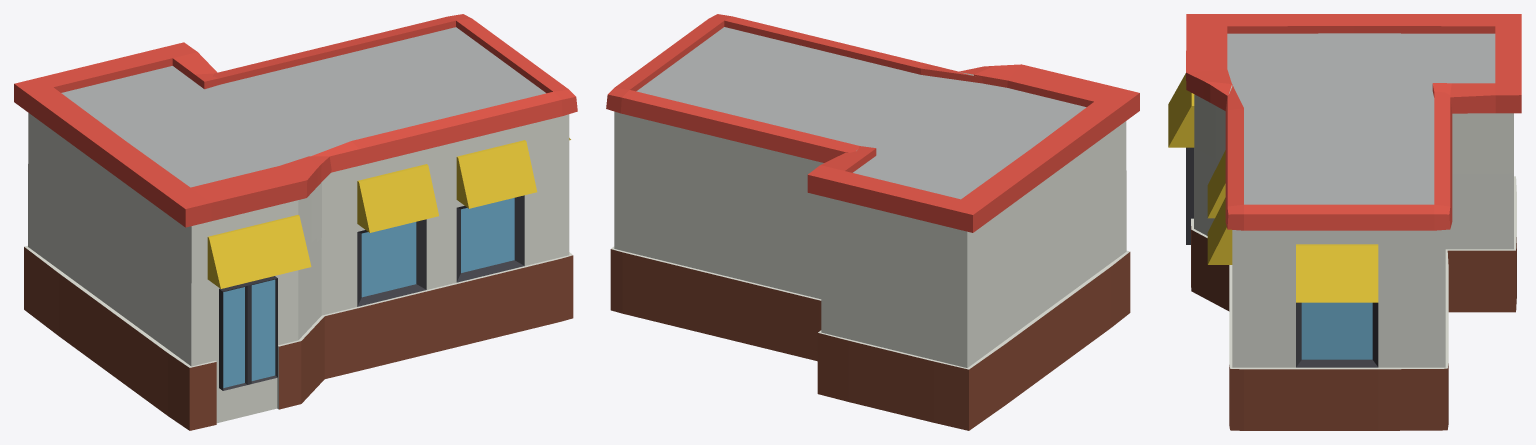
The model's file is restourant.fbx.
The picture shows the model from 3 angles, left to right: view 1: azimuth 30°, elevation 25°; view 2: azimuth 150°, elevation 25°; view 3: azimuth 270°, elevation 25°; orthographic projection. The views are drawn at different scales.
Visible parts, largest first — view 1: restourant; view 2: restourant; view 3: restourant.
Part boxes in pixels (x1,y1,x2,y2): restourant: [14, 14, 577, 430]; restourant: [606, 14, 1139, 430]; restourant: [1168, 14, 1521, 430].
Bounding box in the file's own units: 1539 × 751 × 1089.
